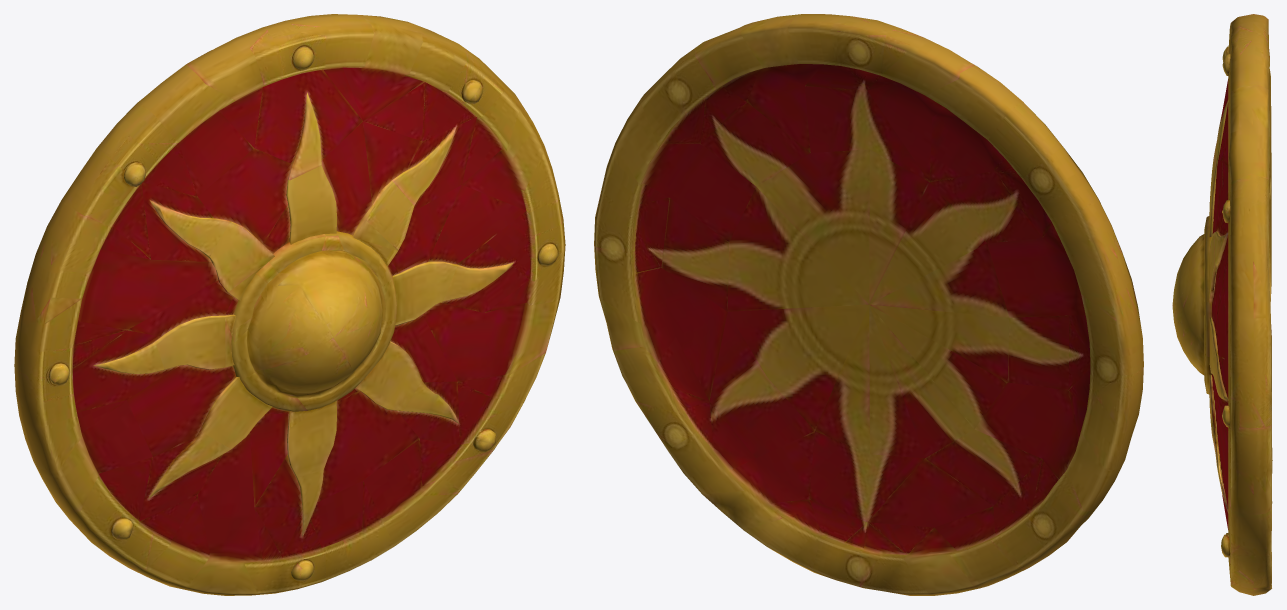
Rendered from alp_kalkan.glb.
The picture shows the model from 3 angles, left to right: view 1: azimuth 30°, elevation 25°; view 2: azimuth 150°, elevation 25°; view 3: azimuth 270°, elevation 25°; orthographic projection. The views are drawn at different scales.
Size of the model in its own units: 0.9565 by 0.9497 by 0.1631.
1 material, 1 textured.
